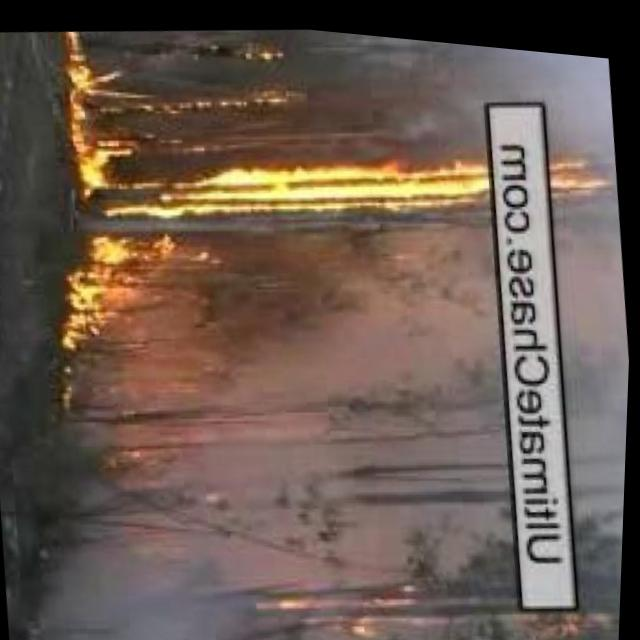Fire: (87, 104, 621, 250), (45, 229, 131, 350), (54, 24, 126, 153)
